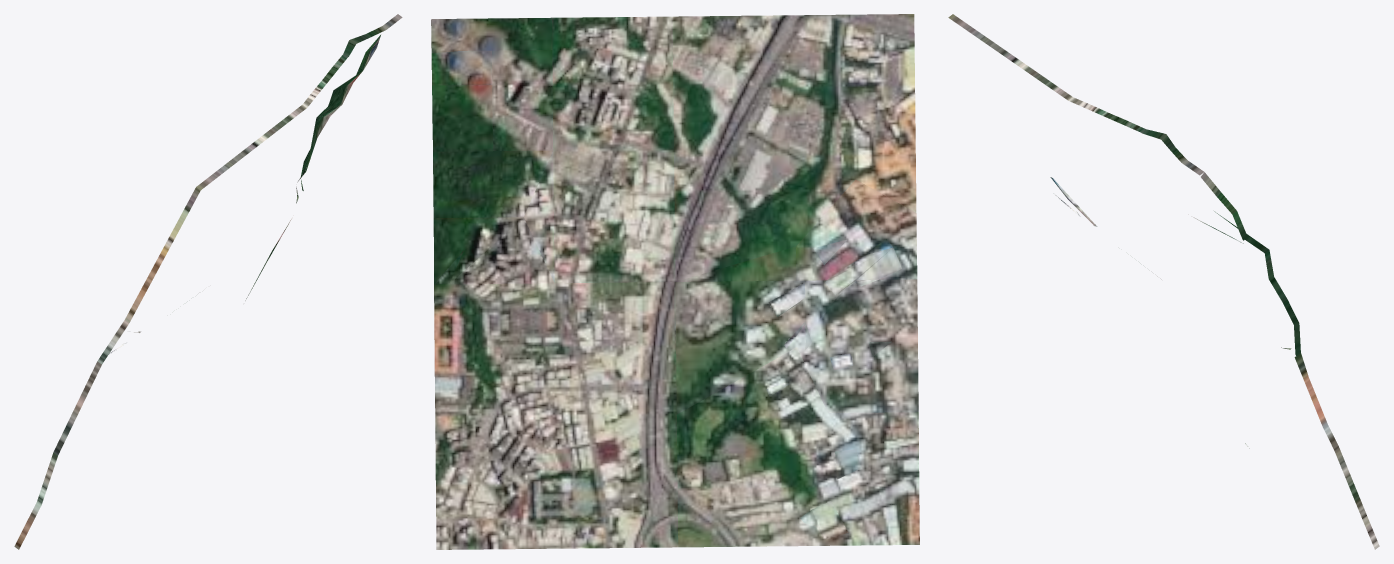
3 renders of one model, left to right at view 1: azimuth 30°, elevation 25°; view 2: azimuth 150°, elevation 25°; view 3: azimuth 270°, elevation 25°, orthographic. The views are drawn at different scales.
Bounding box in the file's own units: 1206 × 1134 × 1038.
1 material, 1 textured.
